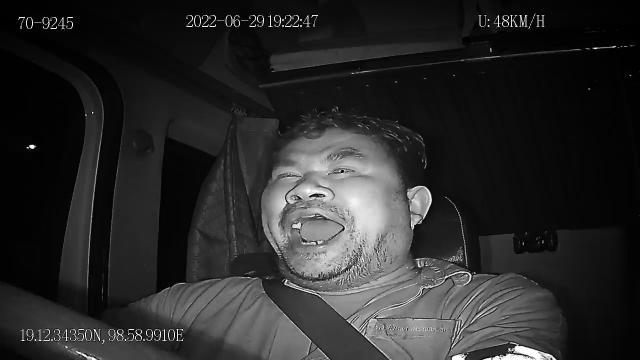SafeDriving: (270, 162, 309, 188), (324, 156, 366, 180)
Seatbelt: (260, 276, 392, 360)
